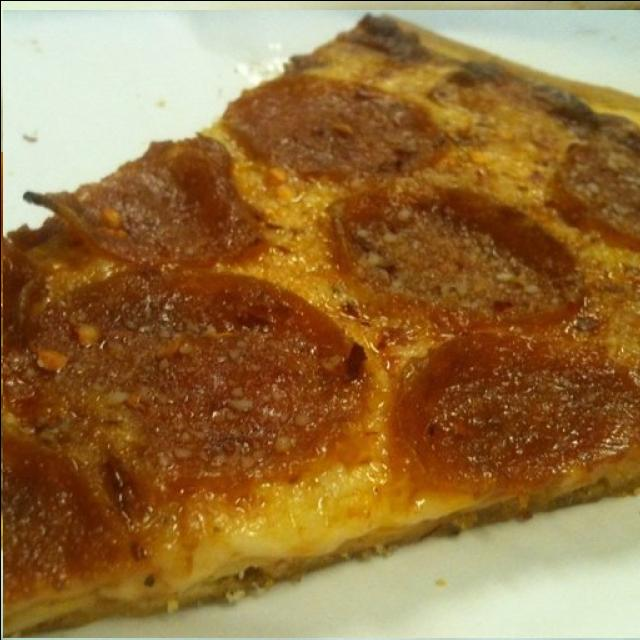pepperoni: (284, 162, 628, 376), (0, 151, 250, 317), (59, 320, 316, 458), (378, 386, 620, 515), (508, 40, 640, 217), (195, 470, 421, 571), (0, 404, 84, 508)
pizza: (2, 9, 640, 637)
